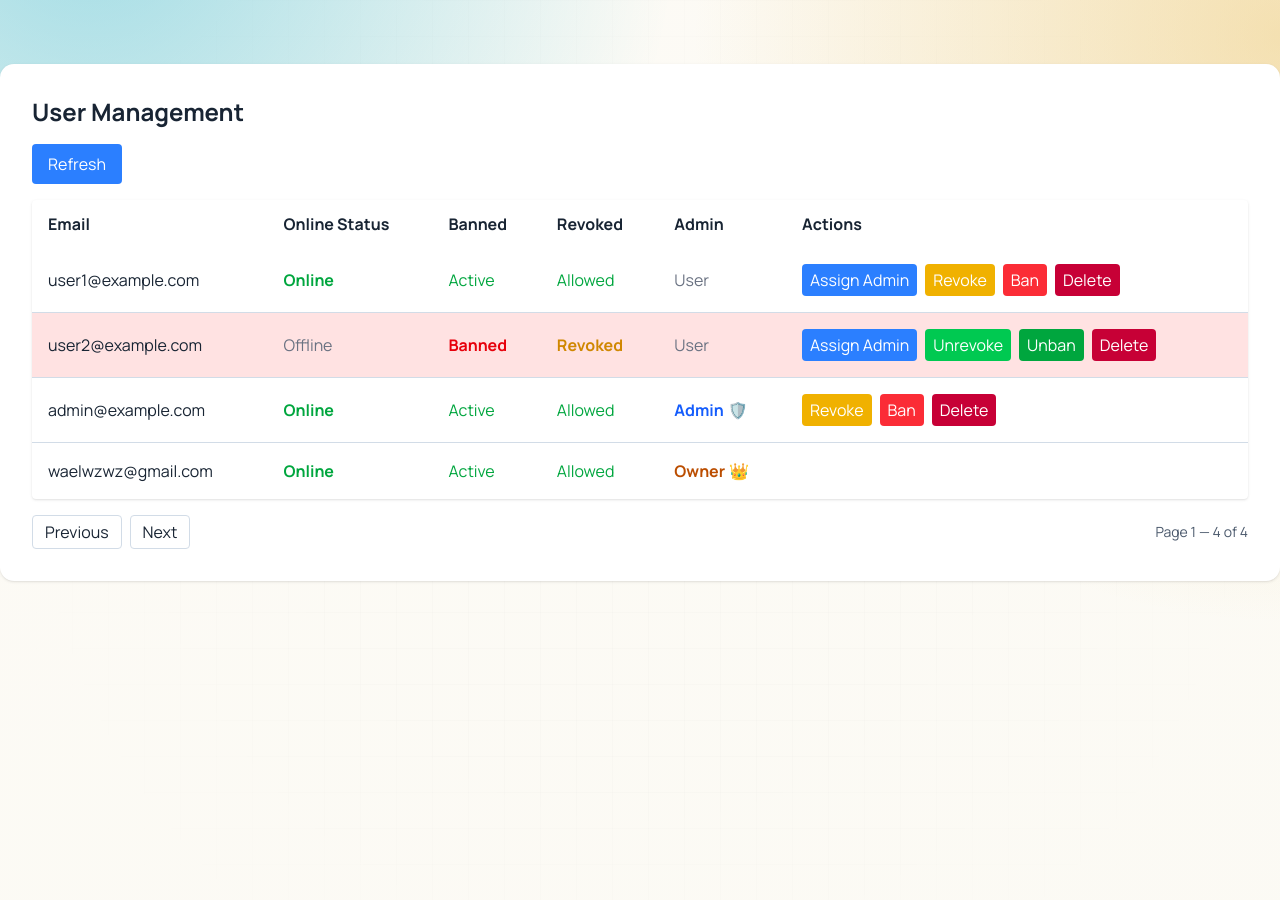
Scenario: UserManagement › deletes a non-owner user
expect the text "user1@example.com" is shown: met, box [32,248,267,312]
Note: Click Delete button for first user (opens AlertDialog)
Click the button "Delete" in the row of "user1@example.com" at [1087, 280], box [1055,264,1120,296]
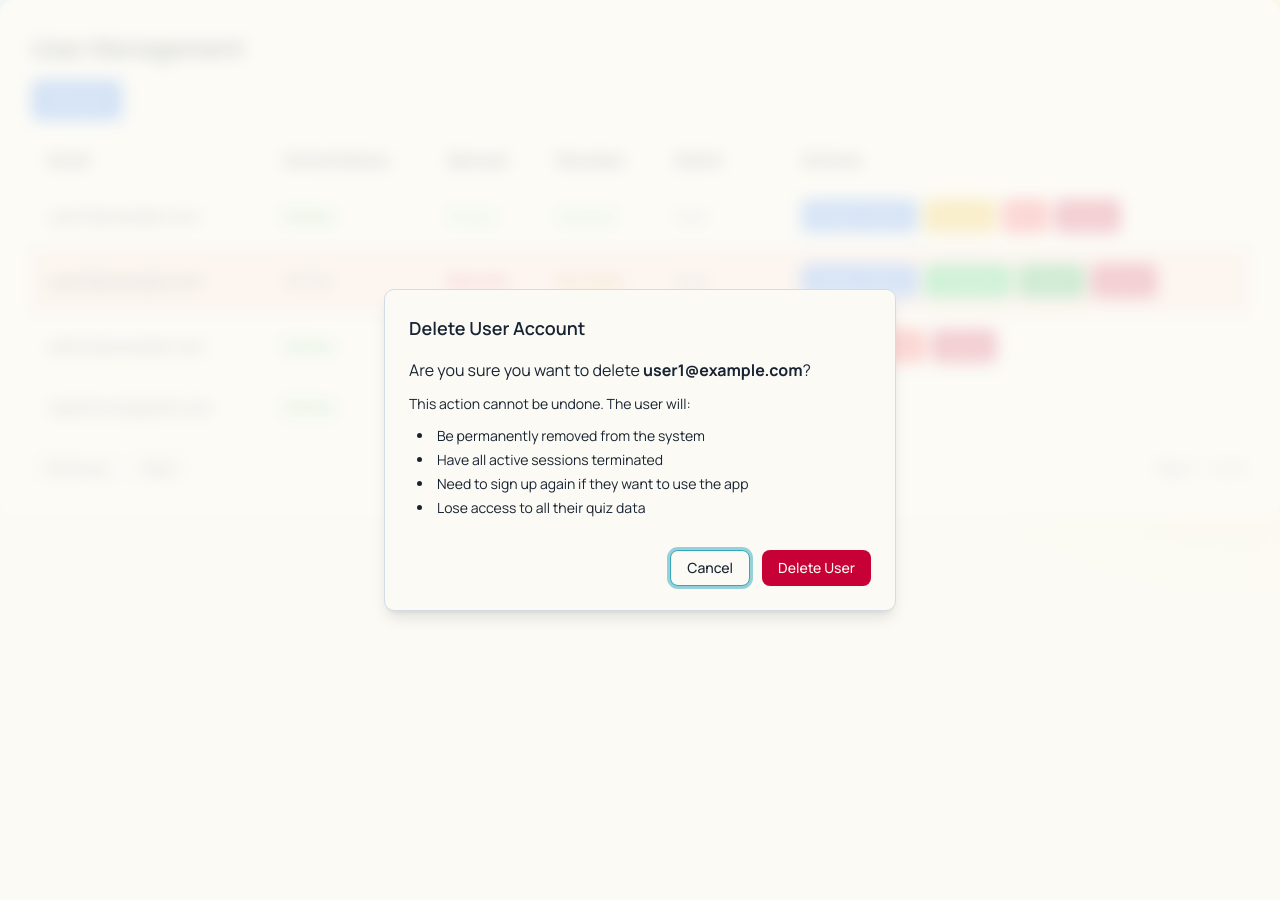
expect the heading "Delete User Account" is shown: met, box [409,316,586,340]
Click the button "Delete User" at [817, 568], box [762,550,871,586]
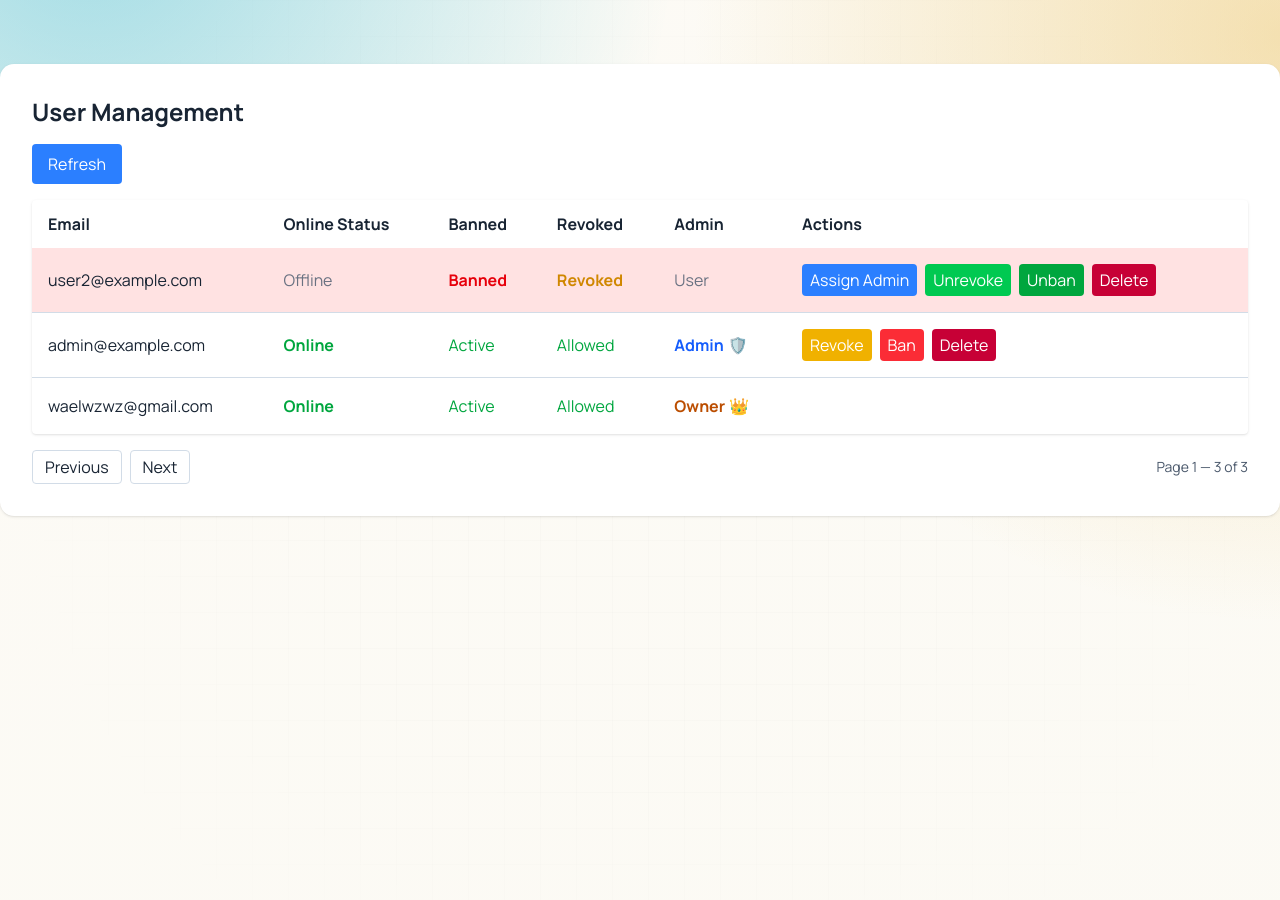
expect the text "user1@example.com" is gone: met
